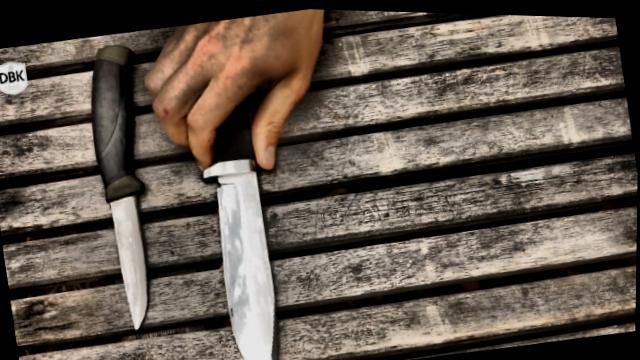knife: (146, 87, 334, 360), (84, 151, 169, 340)
